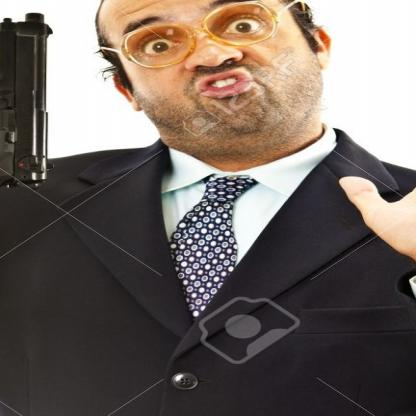gun: (0, 11, 54, 197)
